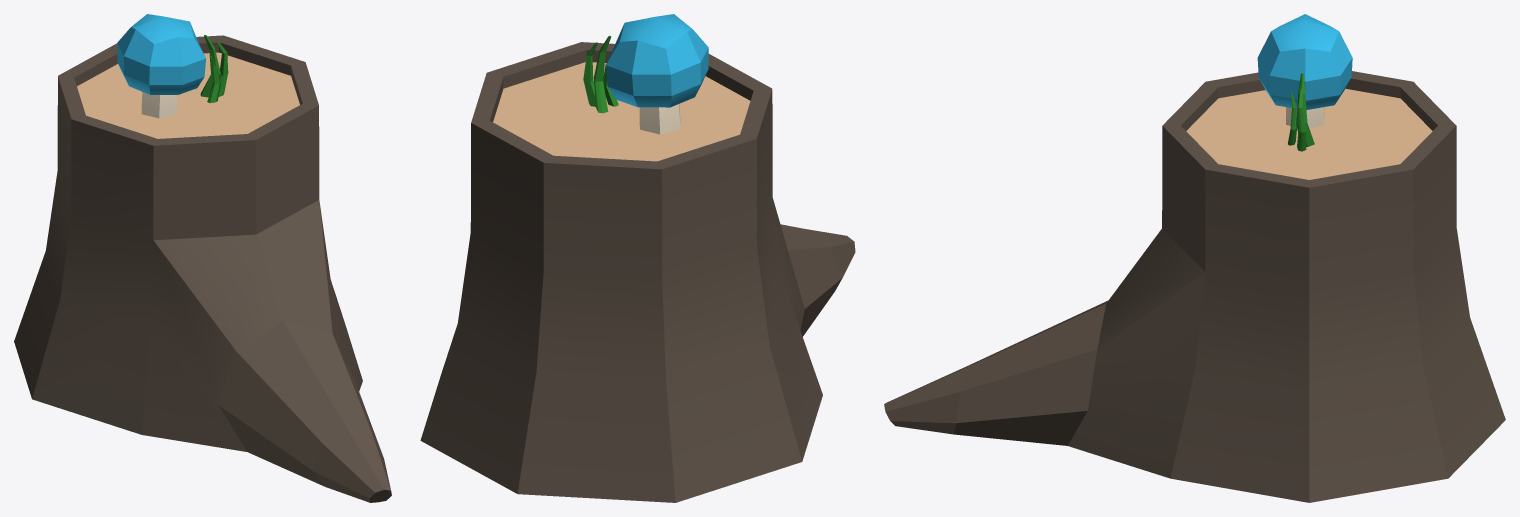
The model's file is Tronco_decorado_2.fbx.
3 renders of one model, left to right at view 1: azimuth 30°, elevation 25°; view 2: azimuth 150°, elevation 25°; view 3: azimuth 270°, elevation 25°, orthographic. The views are drawn at different scales.
Visible parts, largest first — view 1: tronco_2, cabeza_hongo3, palo_hongo3; view 2: tronco_2, cabeza_hongo3, palo_hongo3, Pasto_2PastosPasto5pCube27, Pasto_2PastosPasto5pCube28; view 3: tronco_2, cabeza_hongo3.
Part boxes in pixels (left/top/right/bottom): tronco_2: left=14, top=35, right=391, bottom=502; cabeza_hongo3: left=117, top=14, right=206, bottom=94; palo_hongo3: left=141, top=92, right=176, bottom=118; tronco_2: left=420, top=42, right=855, bottom=502; cabeza_hongo3: left=606, top=14, right=708, bottom=107; palo_hongo3: left=639, top=104, right=680, bottom=134; Pasto_2PastosPasto5pCube27: left=593, top=35, right=611, bottom=113; Pasto_2PastosPasto5pCube28: left=583, top=42, right=597, bottom=106; tronco_2: left=884, top=71, right=1505, bottom=502; cabeza_hongo3: left=1257, top=14, right=1352, bottom=109.
Bounding box in the file's own units: 2.57 × 2.78 × 4.06.
